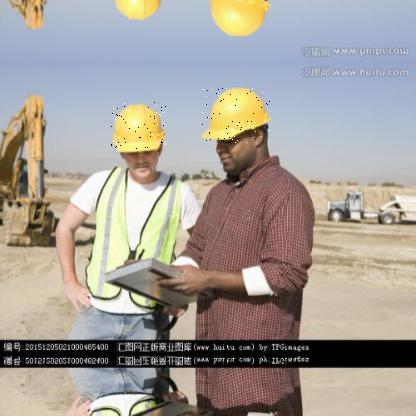safetyhelmet: (202, 88, 272, 144), (111, 102, 167, 154)
